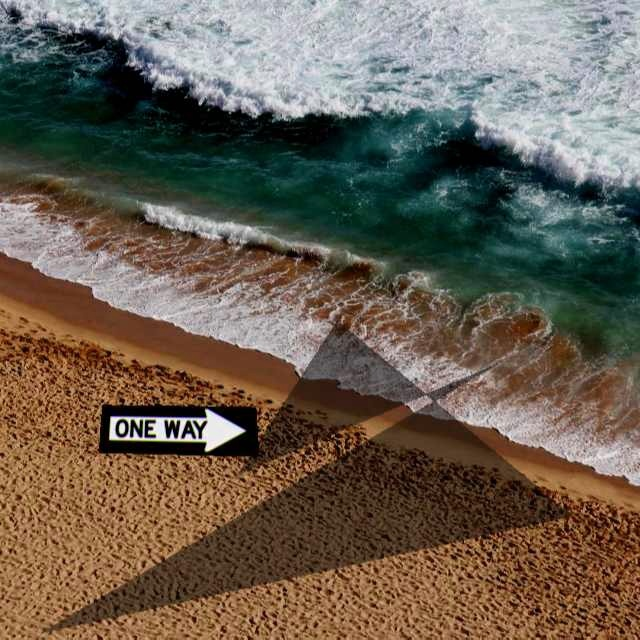ONE_WAY_ right: (98, 405, 259, 457)
